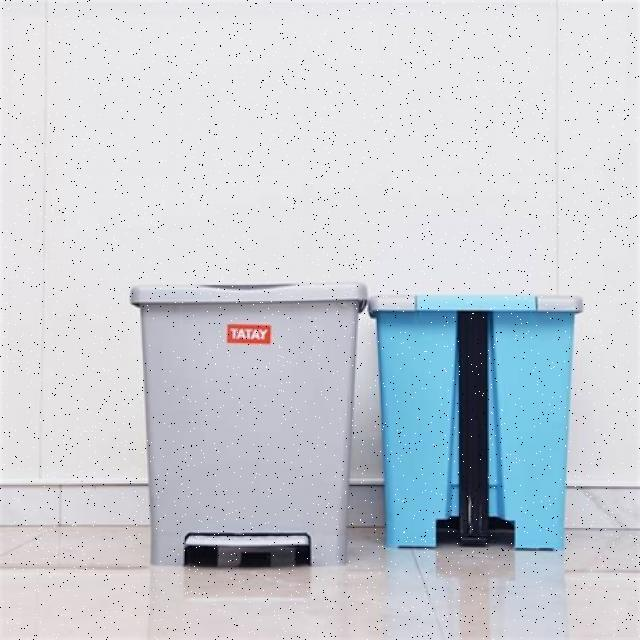garbage container: (97, 248, 371, 580), (365, 274, 595, 559)
